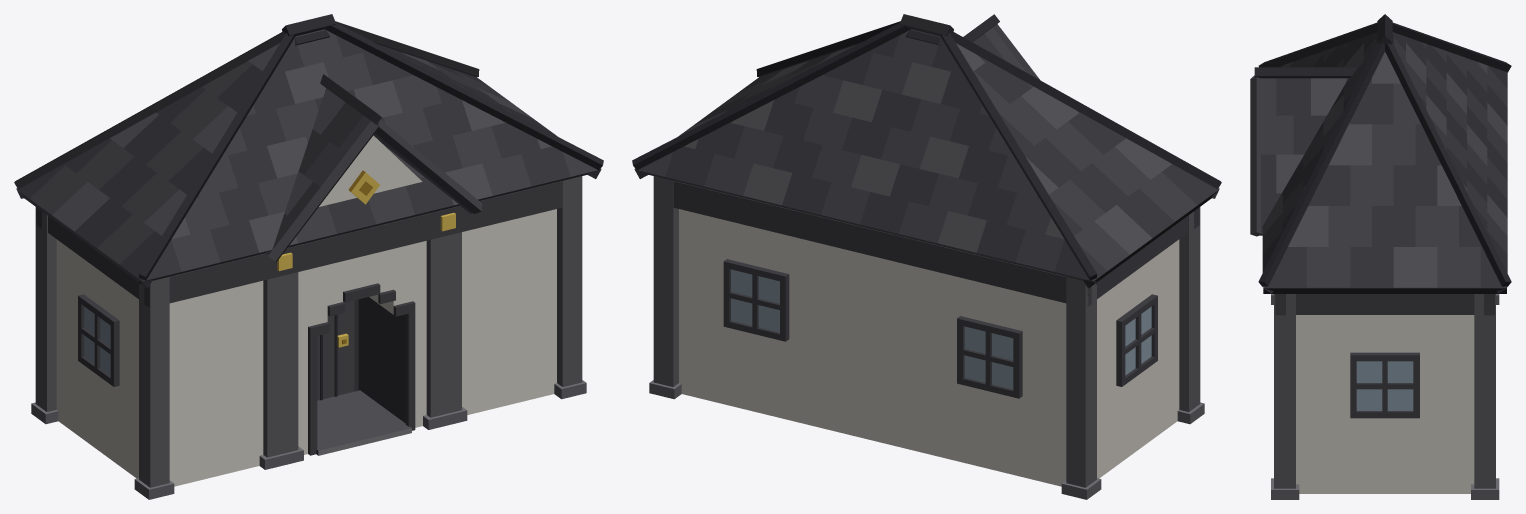
The model's file is house_main.fbx.
3 views of the same model, side by side, from view 1: azimuth 30°, elevation 25°; view 2: azimuth 150°, elevation 25°; view 3: azimuth 270°, elevation 25° (orthographic). The views are drawn at different scales.
Parts seen in each view (by area): view 1: house_main, HouseRoof, HouseDoor; view 2: house_main, HouseRoof; view 3: HouseRoof, house_main.
Part boxes in pixels (left/top/right/bottom): house_main: left=31, top=135, right=586, bottom=499; HouseRoof: left=14, top=14, right=603, bottom=288; HouseDoor: left=317, top=300, right=354, bottom=400; house_main: left=649, top=176, right=1204, bottom=499; HouseRoof: left=632, top=14, right=1221, bottom=288; HouseRoof: left=1250, top=14, right=1511, bottom=293; house_main: left=1271, top=294, right=1499, bottom=499.
Bounding box in the file's own units: 2.39 × 1.88 × 1.2.
